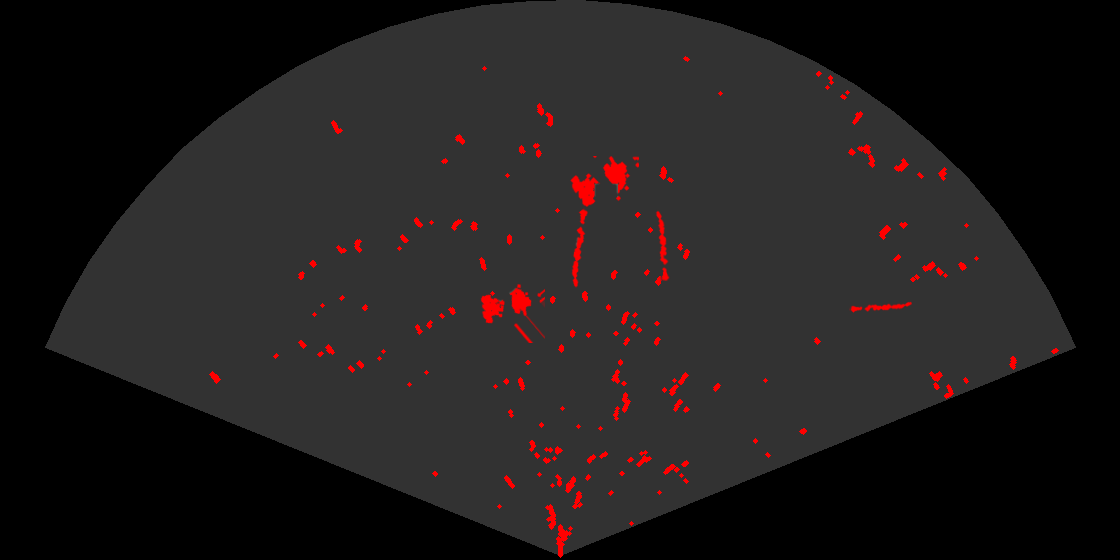cage: (479, 282, 545, 343), (569, 156, 639, 208)
chain: (570, 206, 589, 288), (654, 209, 671, 281), (849, 300, 912, 314)
